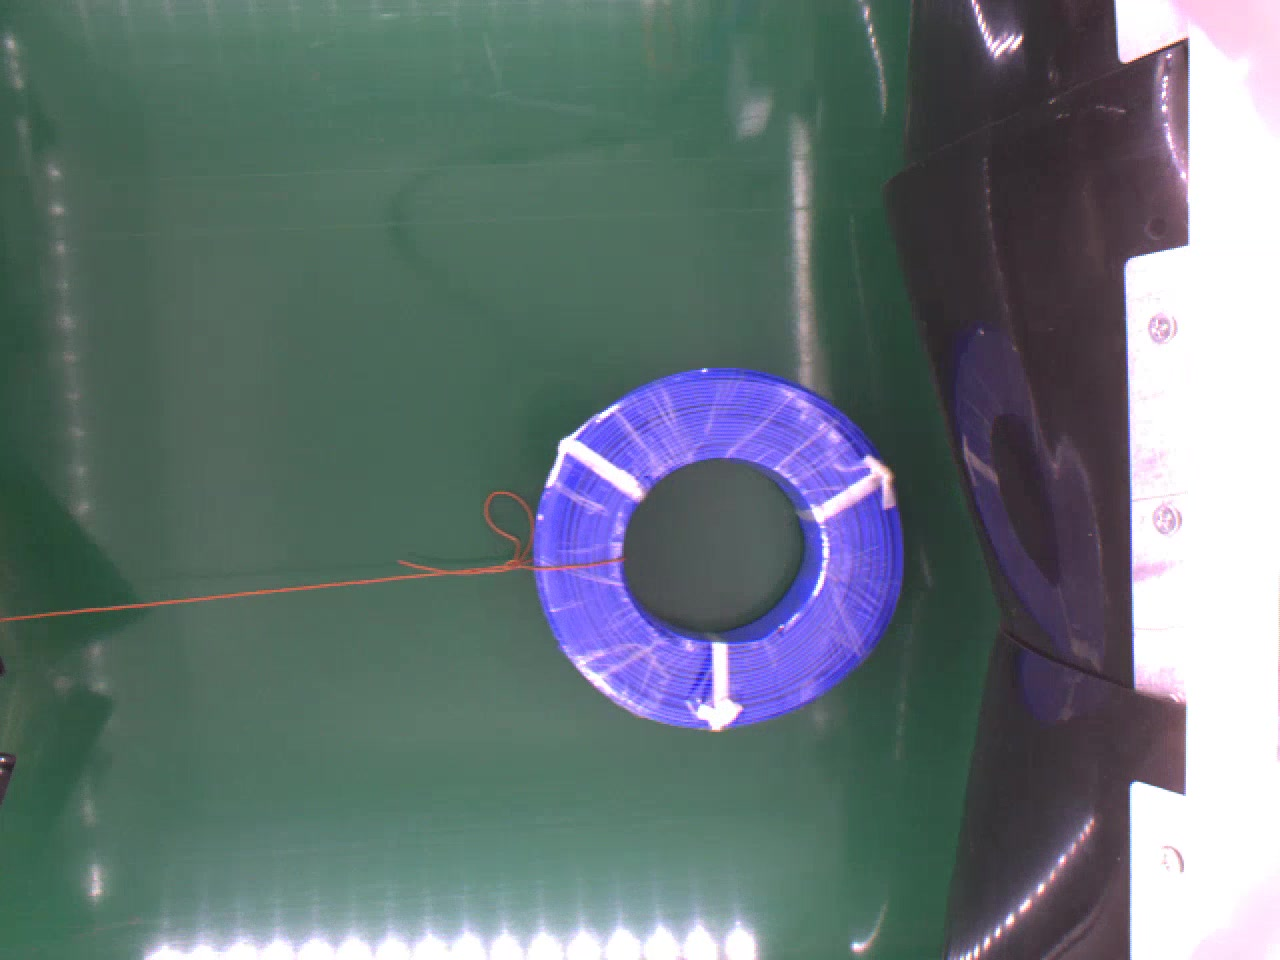blue: (534, 370, 912, 728)
